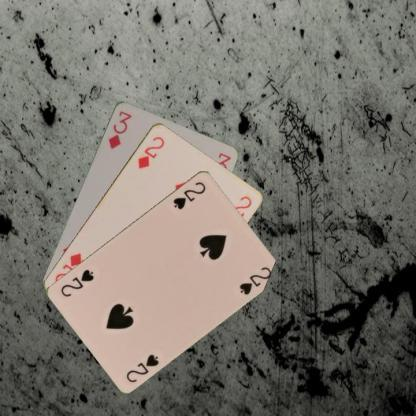2d: (134, 133, 166, 170)
2s: (170, 178, 208, 210), (124, 351, 160, 384)
3d: (105, 108, 133, 150)
